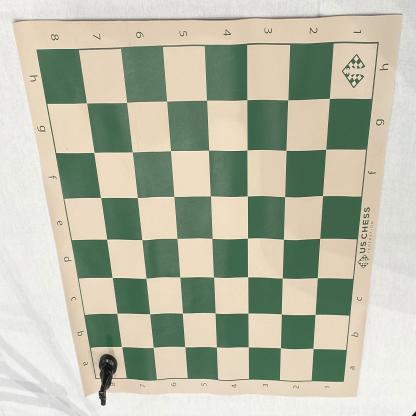black-knight: (98, 353, 119, 406)
